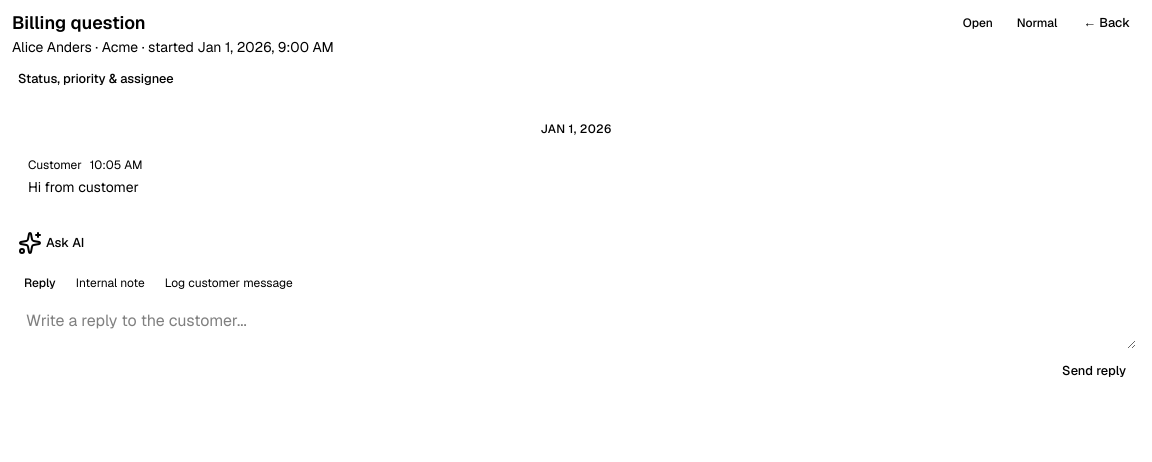
Test: ConversationPane › shows a sent message at once as a normal message with a sending indicator, then 'sent'
Type "On it" into the text box. click: (576, 325)
box: [16, 301, 1136, 349]
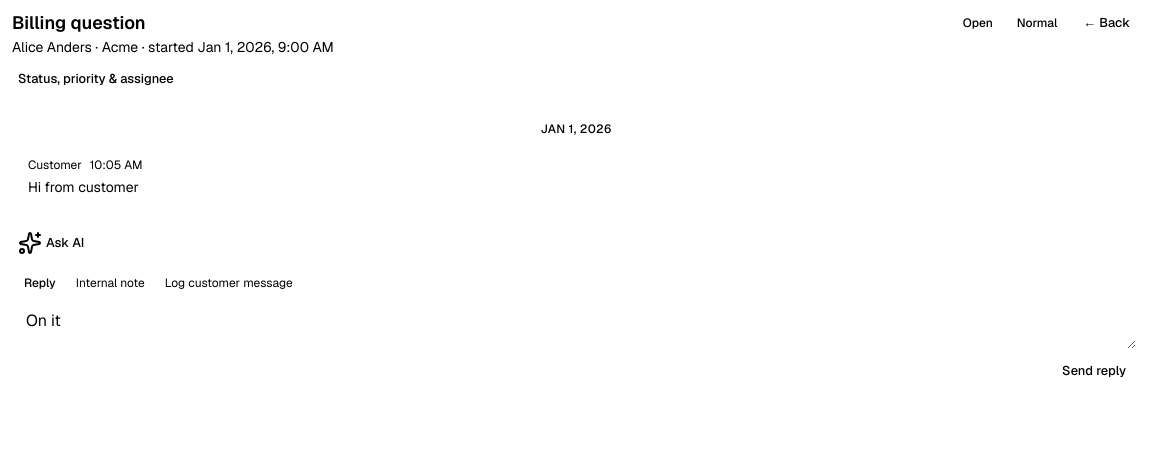
Click the button "Send reply". click: (1094, 371)
box: [1052, 357, 1136, 385]
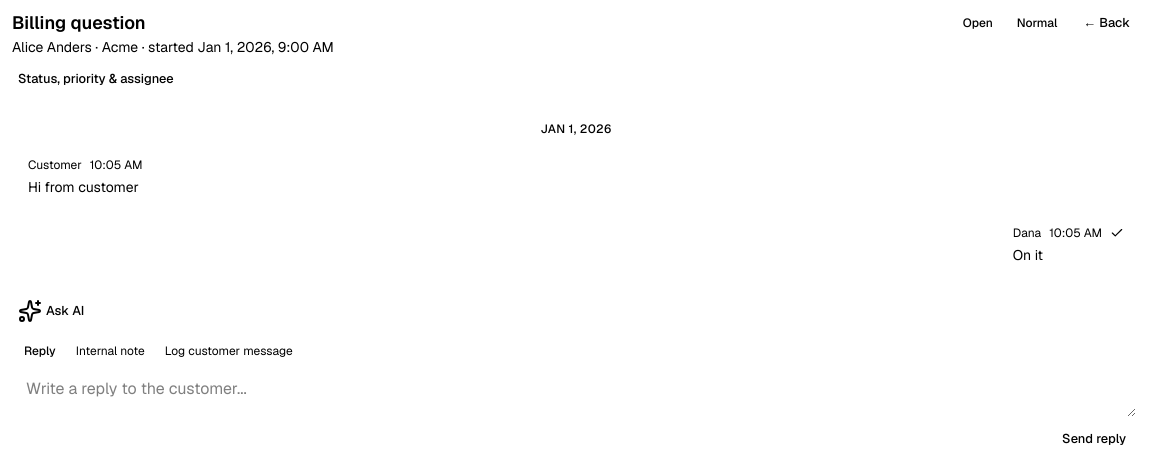
Result: the element named "Agent message" shows "On it" at [1013, 246, 1043, 264]
Result: the picture named "Sent" is shown at [1110, 226, 1124, 240]
Result: the text "On it" is shown once at [1013, 246, 1043, 264]
